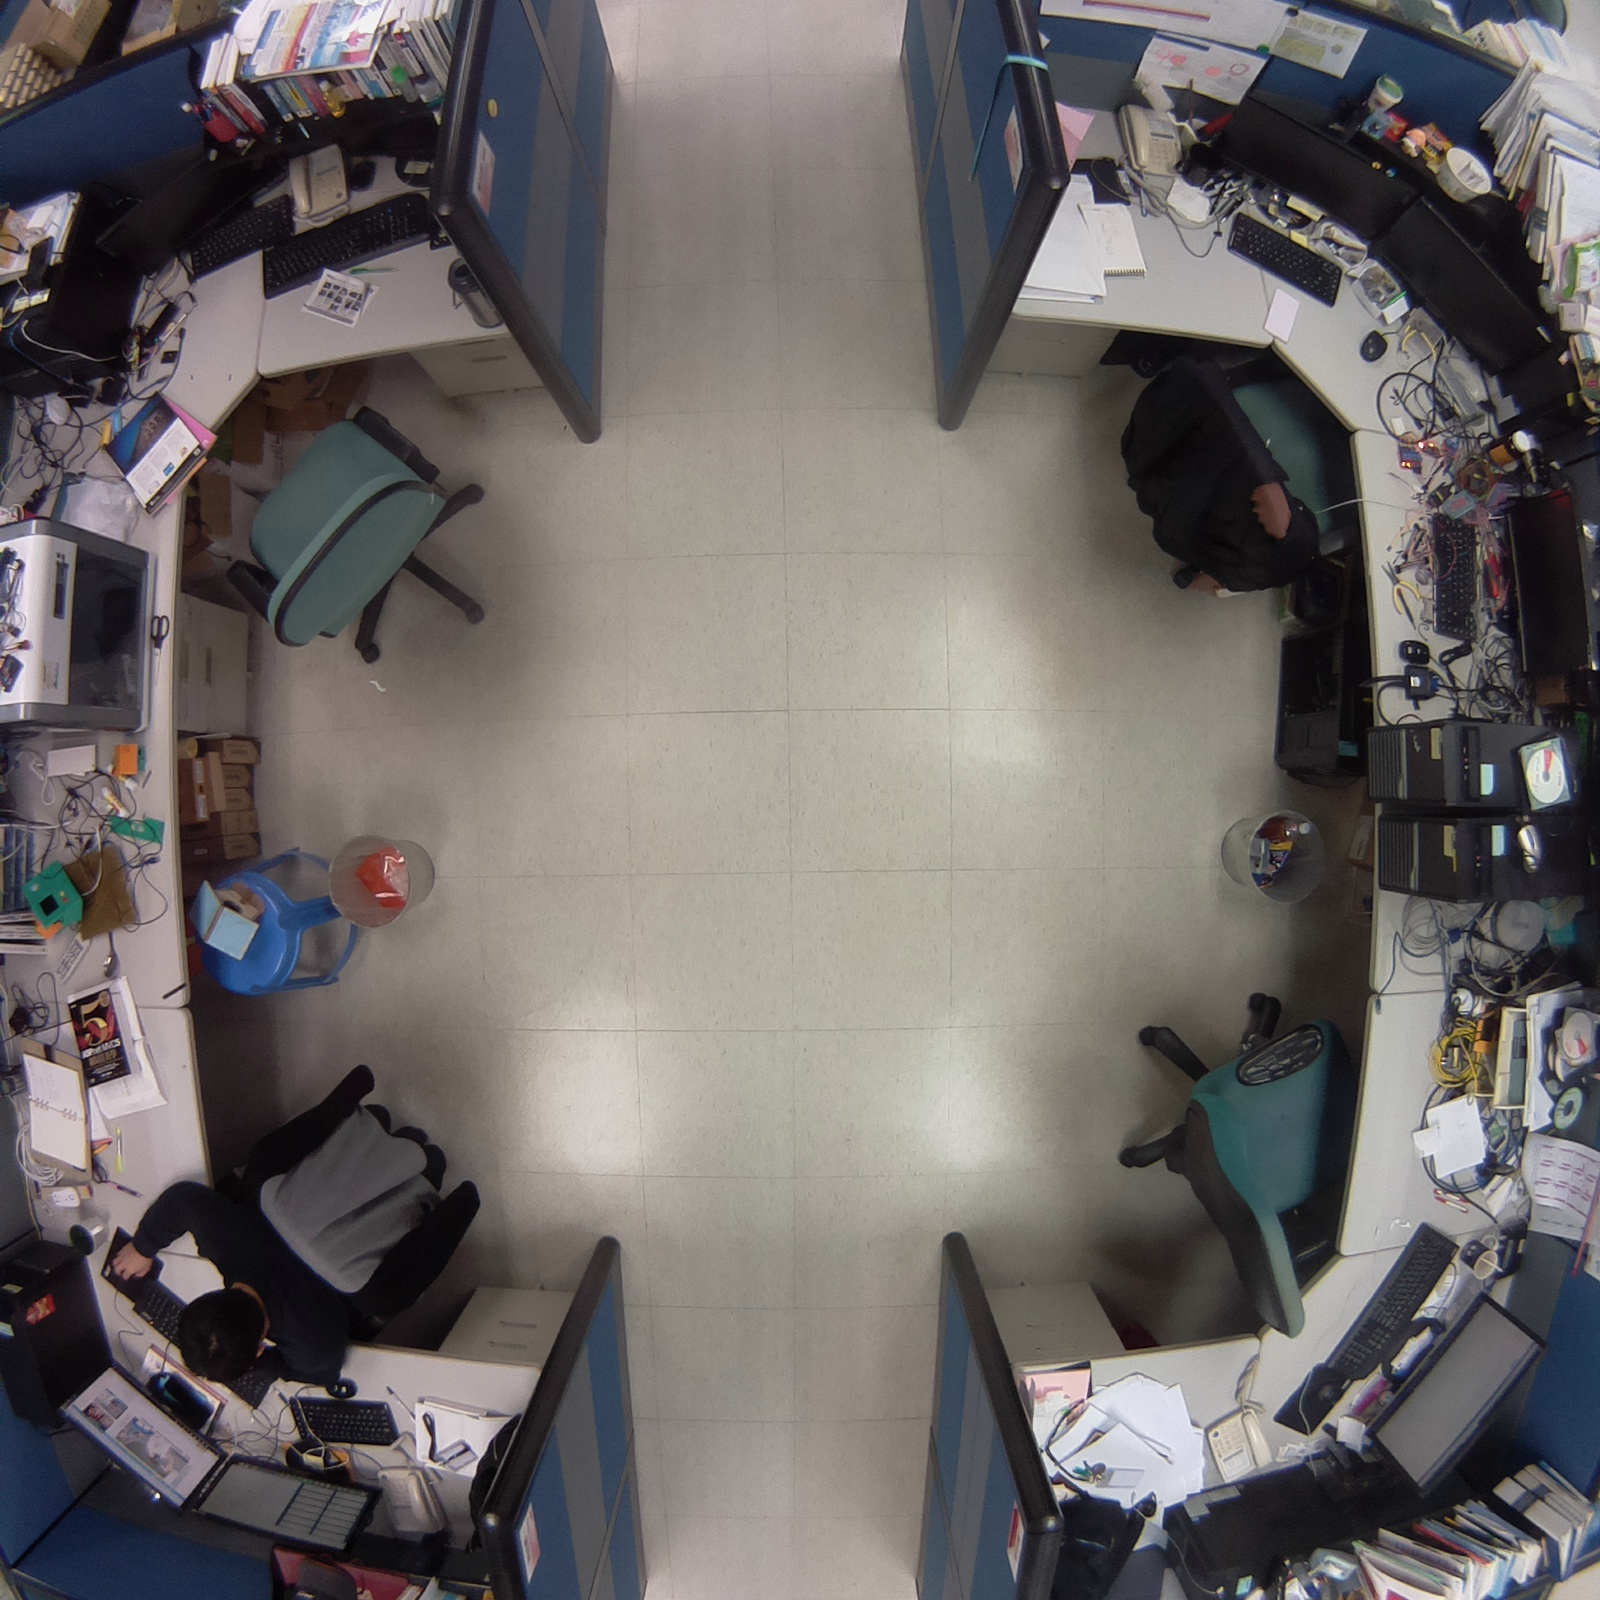chair: (1096, 975, 1368, 1350), (229, 368, 506, 691), (1109, 319, 1388, 609)
head: (172, 1278, 278, 1387)
sitting: (108, 1047, 504, 1398)
